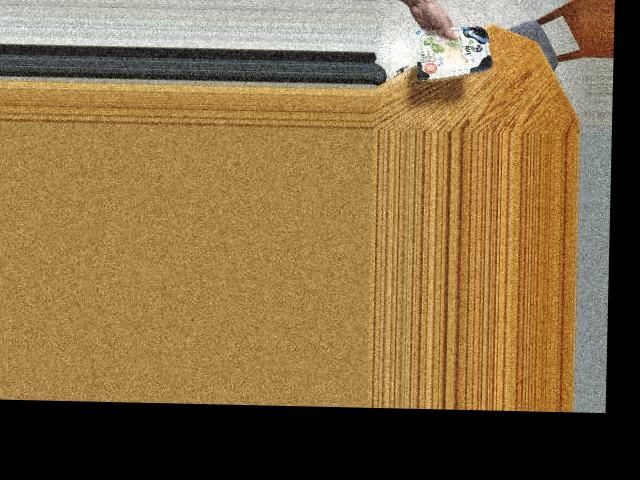cheese: (420, 27, 491, 73)
